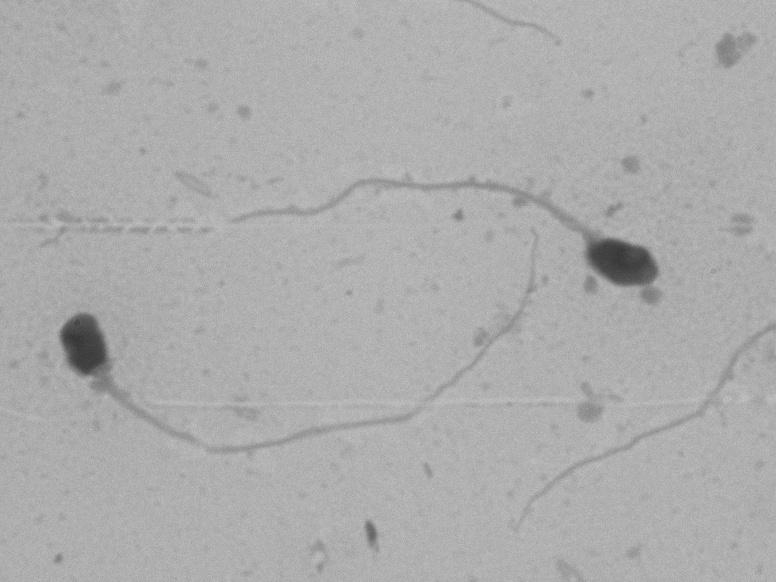Abnormal: (40, 247, 550, 477), (216, 147, 671, 311)
